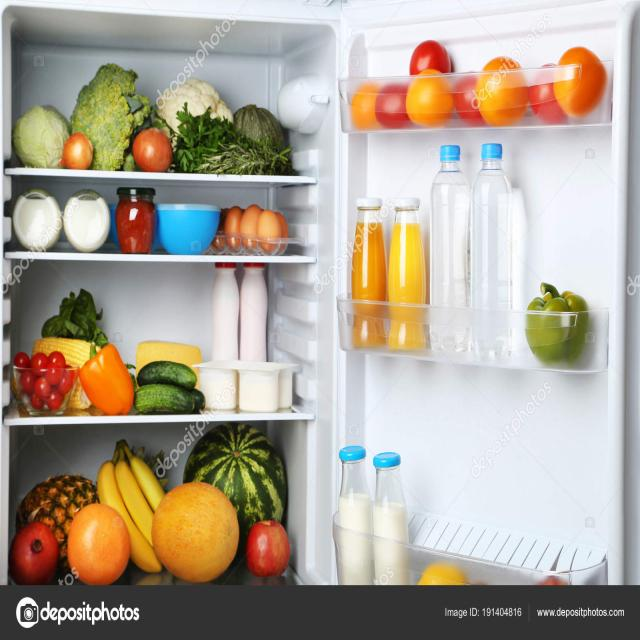orange: (150, 482, 240, 582), (68, 505, 132, 586), (556, 48, 608, 118), (475, 59, 529, 125), (406, 68, 453, 127)
